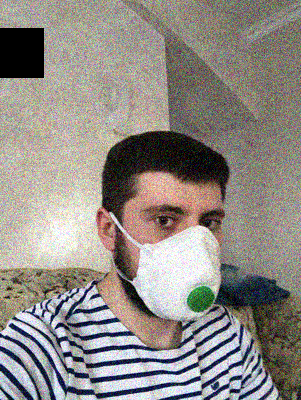with_mask: (132, 191, 222, 323)
